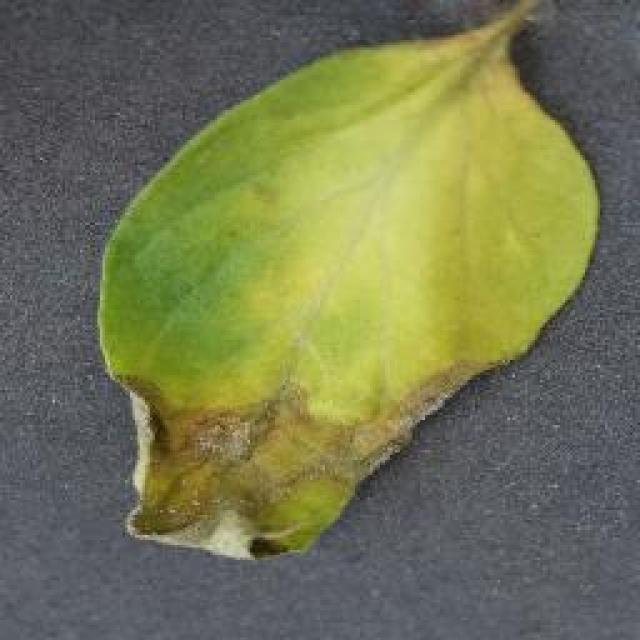Tomato Late Blight: (34, 318, 544, 520)
